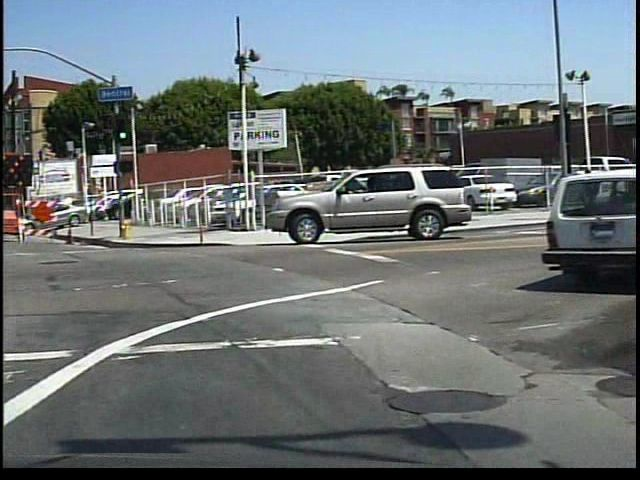person: (577, 163, 597, 206)
